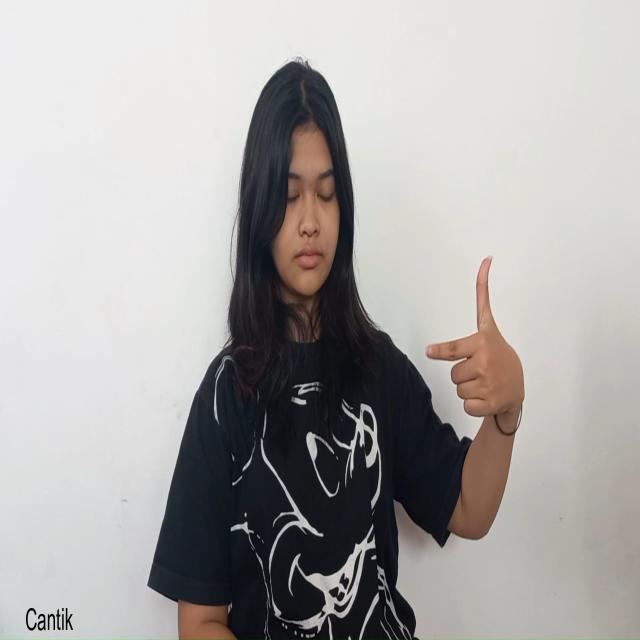Cantik -BISINDO-: (424, 253, 524, 433)
